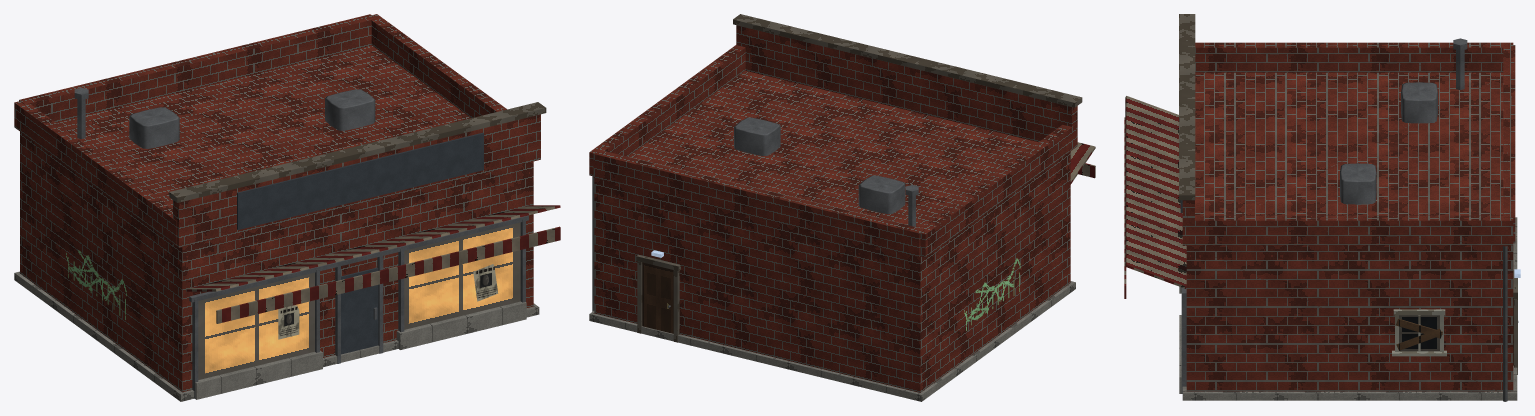
Rendered from town_pawnshop.glb.
The picture shows the model from 3 angles, left to right: view 1: azimuth 30°, elevation 25°; view 2: azimuth 150°, elevation 25°; view 3: azimuth 270°, elevation 25°; orthographic projection. The views are drawn at different scales.
Visible parts, largest first — view 1: detail, shell-col; view 2: shell-col, detail; view 3: shell-col, detail.
Boxes of the visible parts, x1,y1,x2,y2 form: detail: [14, 14, 560, 399]; shell-col: [14, 45, 539, 401]; shell-col: [589, 70, 1075, 401]; detail: [589, 14, 1095, 342]; shell-col: [1182, 72, 1517, 400]; detail: [1124, 14, 1520, 401].
Size of what is drawn, in the model's own units: 10.5 by 5.62 by 9.7.
Materials: 15 (15 with a texture image).
